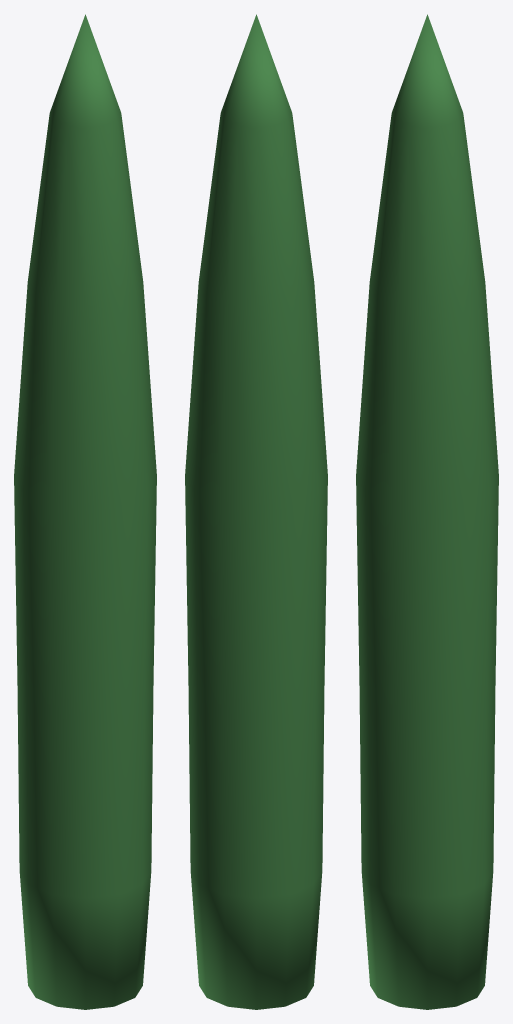
The model's file is plant 3.fbx.
The picture shows the model from 3 angles, left to right: view 1: azimuth 30°, elevation 25°; view 2: azimuth 150°, elevation 25°; view 3: azimuth 270°, elevation 25°; orthographic projection.
Parts seen in each view (by area): view 1: Plant 4; view 2: Plant 4; view 3: Plant 4.
Boxes of the visible parts, x1=… form: Plant 4: x1=14, y1=14, x2=156, y2=1009; Plant 4: x1=185, y1=14, x2=327, y2=1009; Plant 4: x1=356, y1=14, x2=498, y2=1009.
Size of the model in its own units: 9.47 by 71.02 by 9.47.
